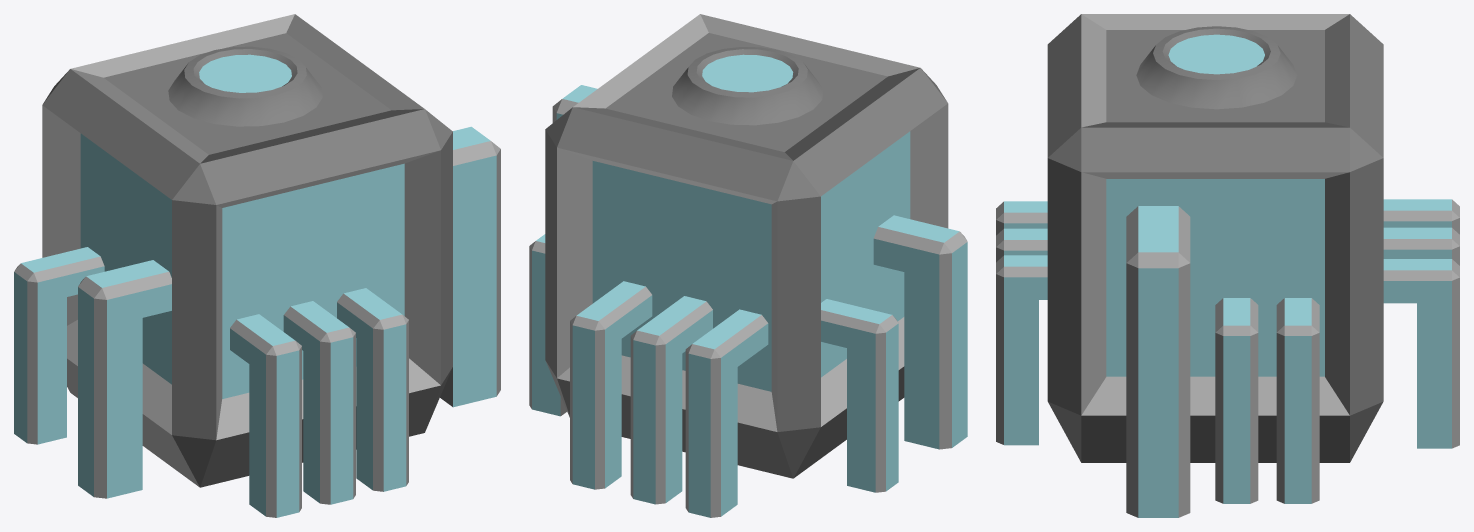
Rendered from Power Cube.fbx.
The picture shows the model from 3 angles, left to right: view 1: azimuth 30°, elevation 25°; view 2: azimuth 150°, elevation 25°; view 3: azimuth 270°, elevation 25°; orthographic projection. The views are drawn at different scales.
Parts seen in each view (by area): view 1: Power_Cube; view 2: Power_Cube; view 3: Power_Cube.
Part boxes in pixels (x1,y1,x2,y2): Power_Cube: (14,14,500,517); Power_Cube: (529,14,967,517); Power_Cube: (996,14,1459,517).
Size of the model in its own units: 13.16 by 10.97 by 12.59.
